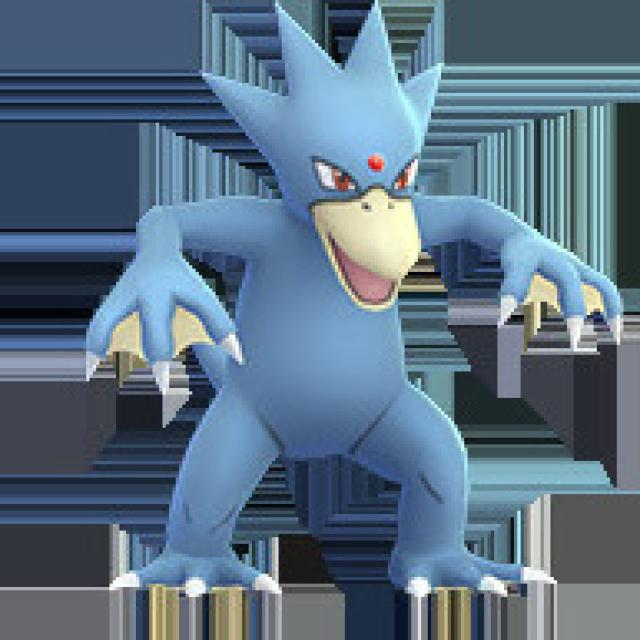Golduck: (100, 19, 553, 586)
